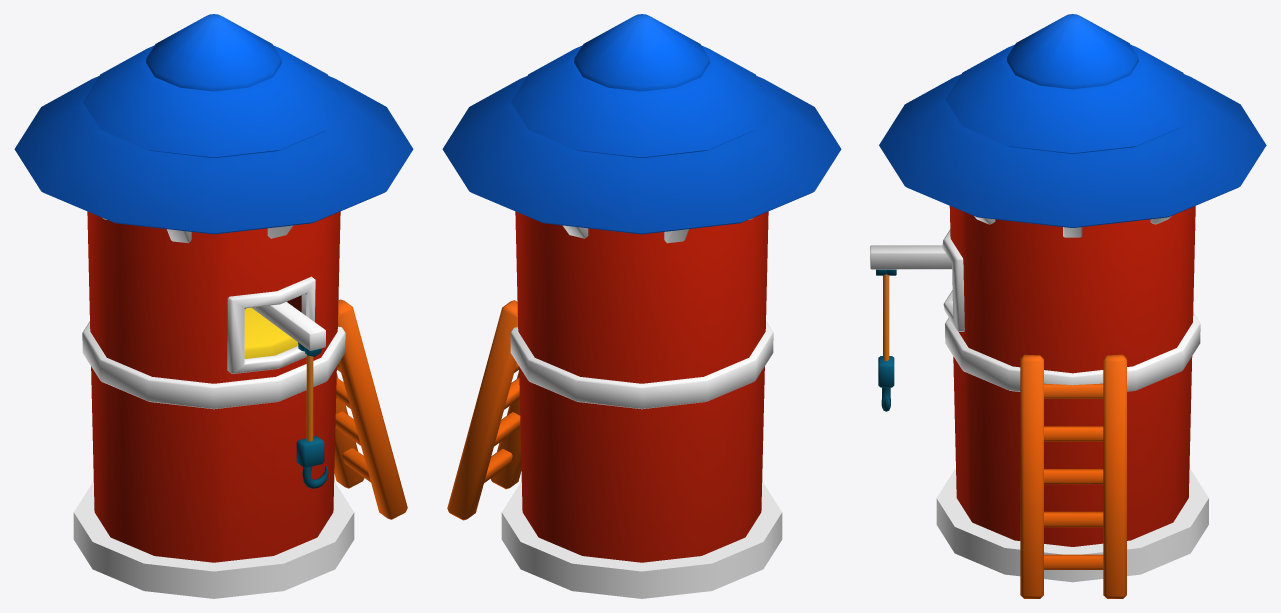
Rendered from Farm_House_Silo_01.glb.
The picture shows the model from 3 angles, left to right: view 1: azimuth 30°, elevation 25°; view 2: azimuth 150°, elevation 25°; view 3: azimuth 270°, elevation 25°; orthographic projection. The views are drawn at different scales.
Visible parts, largest first — view 1: Farm_House_Silo_01; view 2: Farm_House_Silo_01; view 3: Farm_House_Silo_01.
Part boxes in pixels (box(x1,y1,x2,y2)): Farm_House_Silo_01: box(14, 14, 413, 598); Farm_House_Silo_01: box(442, 14, 841, 598); Farm_House_Silo_01: box(870, 14, 1266, 598).
Size of the model in its own units: 8.38 by 12.09 by 8.56.
Materials: 1 (1 with a texture image).
